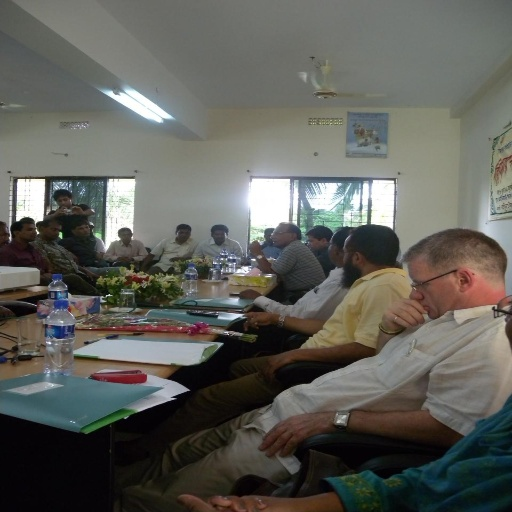hand: (262, 414, 328, 463), (378, 296, 430, 335), (174, 493, 269, 511), (258, 350, 293, 387), (237, 495, 293, 511), (237, 310, 274, 332), (236, 287, 261, 300), (245, 240, 262, 252), (53, 204, 70, 215), (85, 271, 99, 283), (70, 204, 83, 215), (118, 256, 129, 265), (168, 257, 182, 264)
